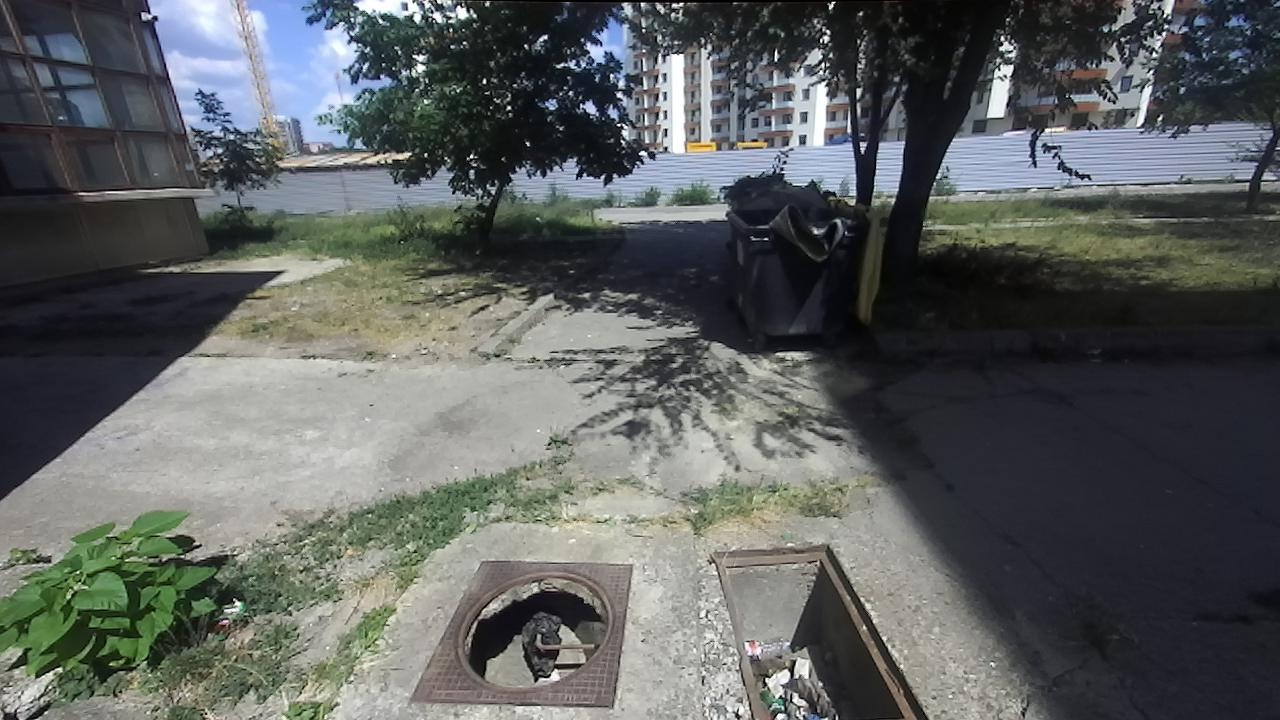drain: (705, 542, 930, 720), (452, 567, 616, 691)
